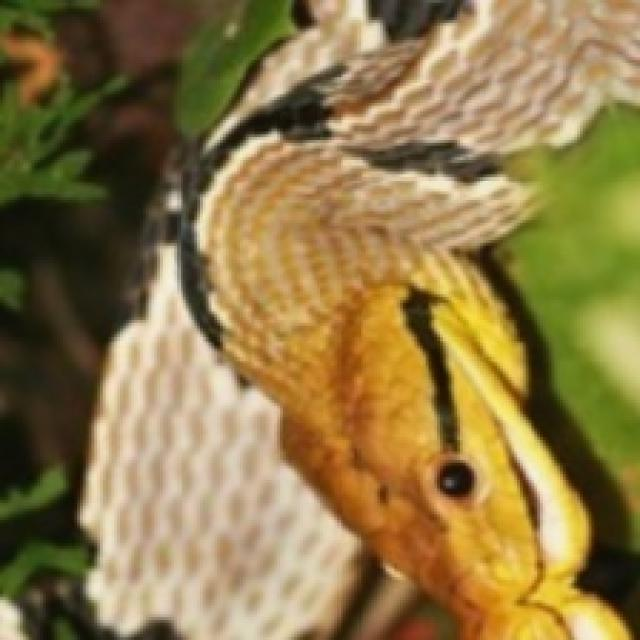dog-toothed cat snake: (83, 0, 637, 637)
